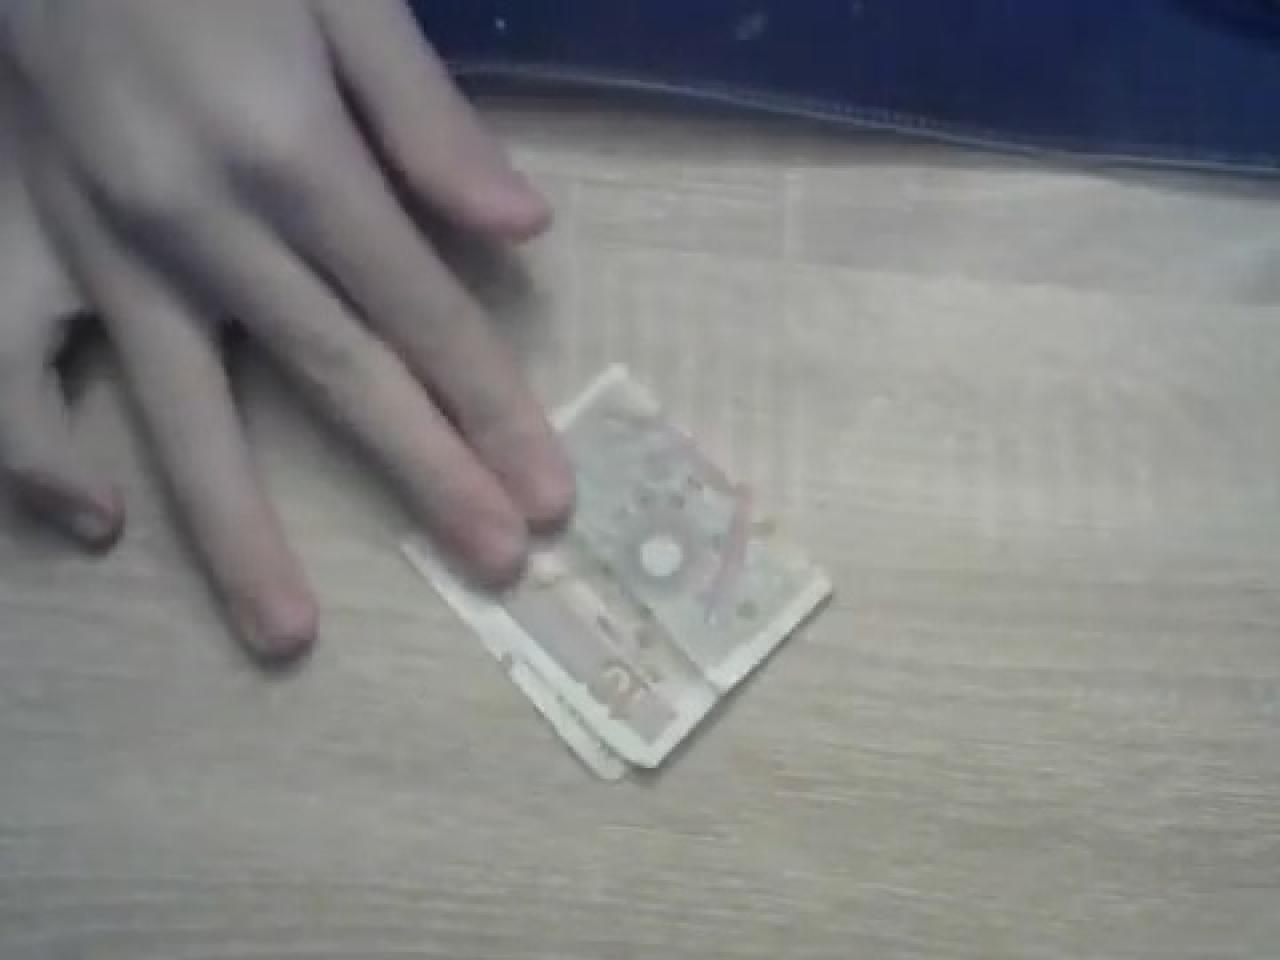10leva: (394, 358, 835, 782)
